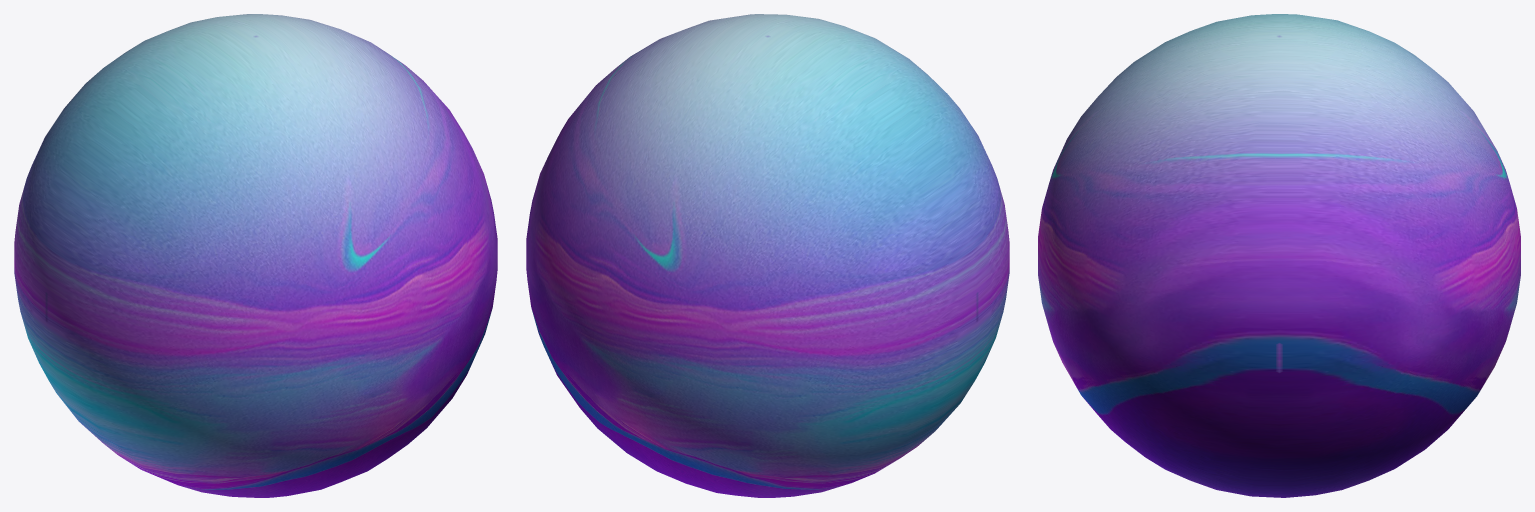
The model's file is planet_color-transformed.glb.
3 renders of one model, left to right at view 1: azimuth 30°, elevation 25°; view 2: azimuth 150°, elevation 25°; view 3: azimuth 270°, elevation 25°, orthographic.
Parts seen in each view (by area): view 1: Sphere.001; view 2: Sphere.001; view 3: Sphere.001.
Part boxes in pixels (box(x1,y1,x2,y2)): Sphere.001: box(14, 14, 497, 497); Sphere.001: box(526, 14, 1009, 497); Sphere.001: box(1038, 14, 1520, 497).
Bounding box in the file's own units: 2 × 2 × 1.99.
1 material, 1 textured.
